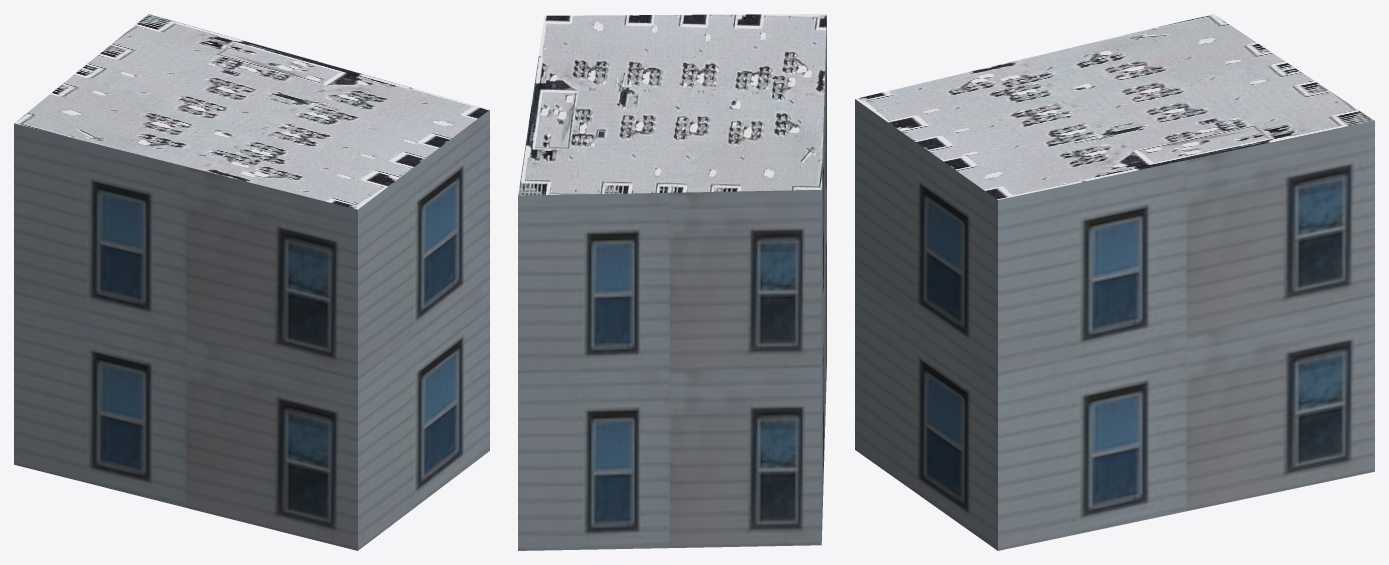
File: ResTex__1488.fbx
3 renders of one model, left to right at view 1: azimuth 30°, elevation 25°; view 2: azimuth 150°, elevation 25°; view 3: azimuth 270°, elevation 25°, orthographic. The views are drawn at different scales.
Visible parts, largest first — view 1: CityEngineMaterial_18_m, CityEngineMaterial_4_m; view 2: CityEngineMaterial_18_m, CityEngineMaterial_4_m; view 3: CityEngineMaterial_18_m, CityEngineMaterial_4_m.
Part boxes in pixels (<box>): CityEngineMaterial_18_m: <box>14,110,489,550</box>; CityEngineMaterial_4_m: <box>14,14,489,209</box>; CityEngineMaterial_18_m: <box>518,14,826,550</box>; CityEngineMaterial_4_m: <box>518,14,826,195</box>; CityEngineMaterial_18_m: <box>855,99,1374,550</box>; CityEngineMaterial_4_m: <box>855,14,1374,199</box>.
Bounding box in the file's own units: 6.83 × 6 × 8.06.
Materials: 2 (2 with a texture image).
